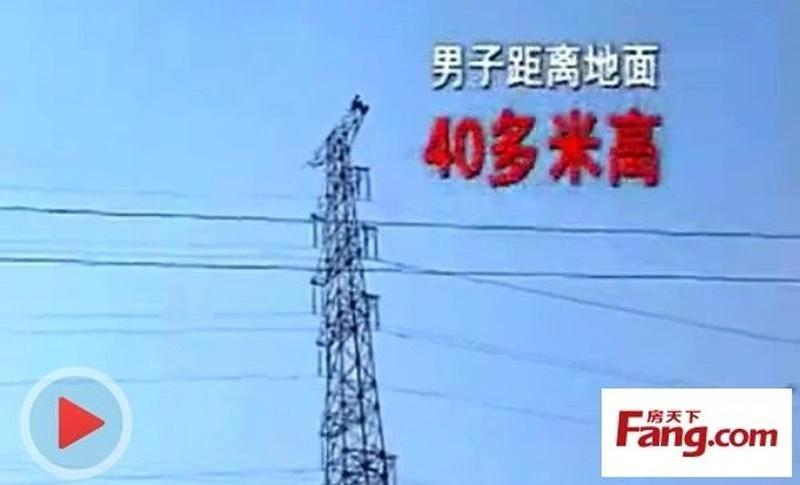power_tower: (297, 91, 400, 485)
